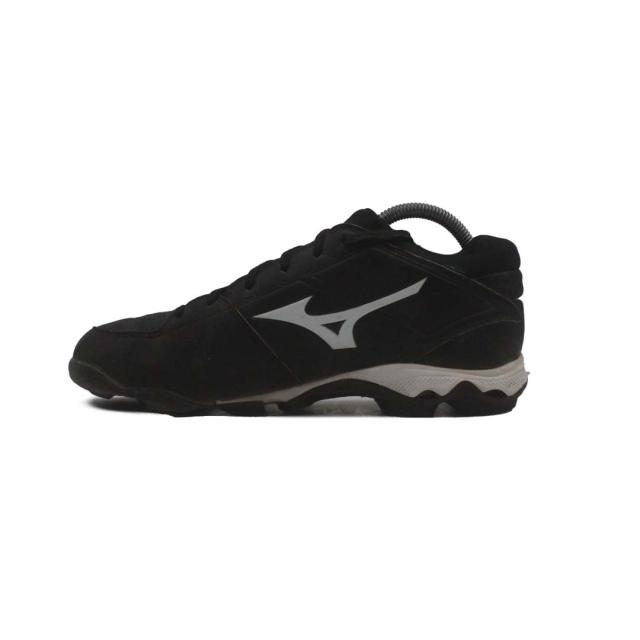heel: (459, 234, 525, 364)
midsole: (70, 352, 527, 422)
uppersole: (76, 213, 472, 394)
